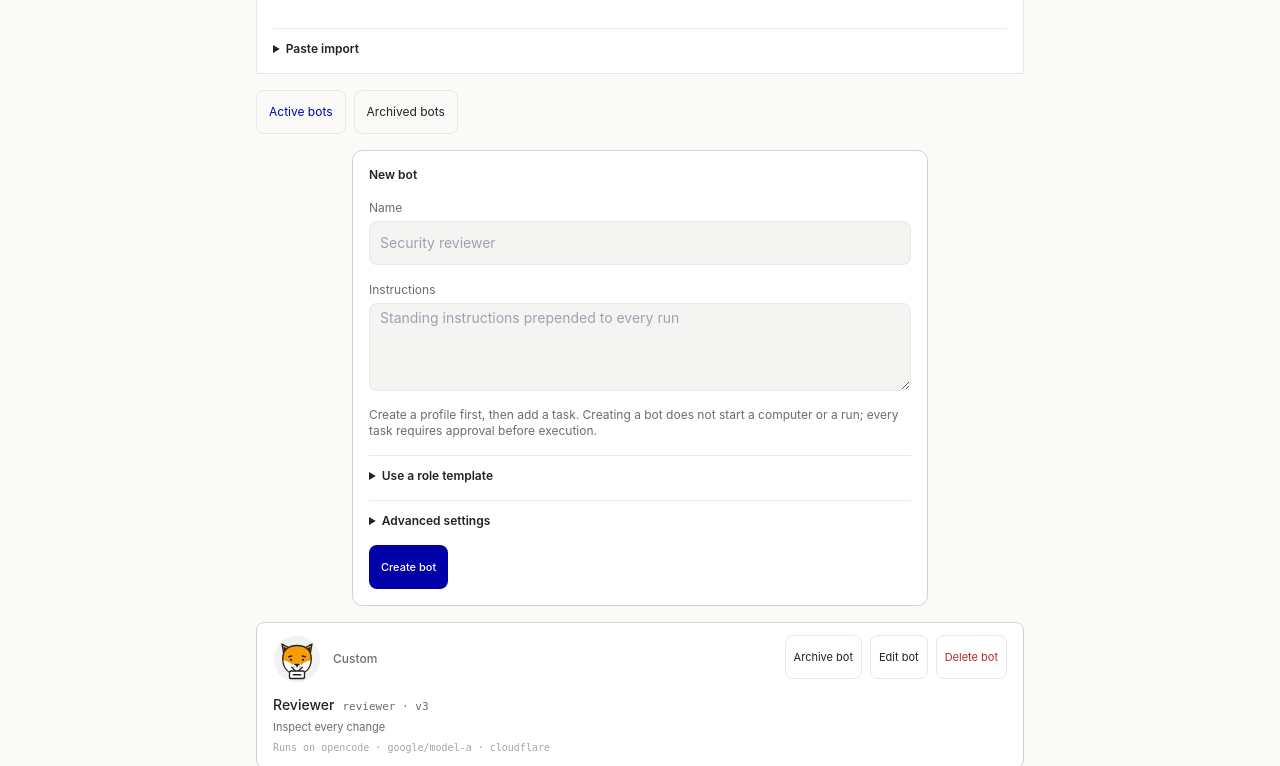
preserves saved settings while clearing an optional model during edit
(page scrolled)
Click the button "Edit bot" at (899, 657), box [870,635,928,679]
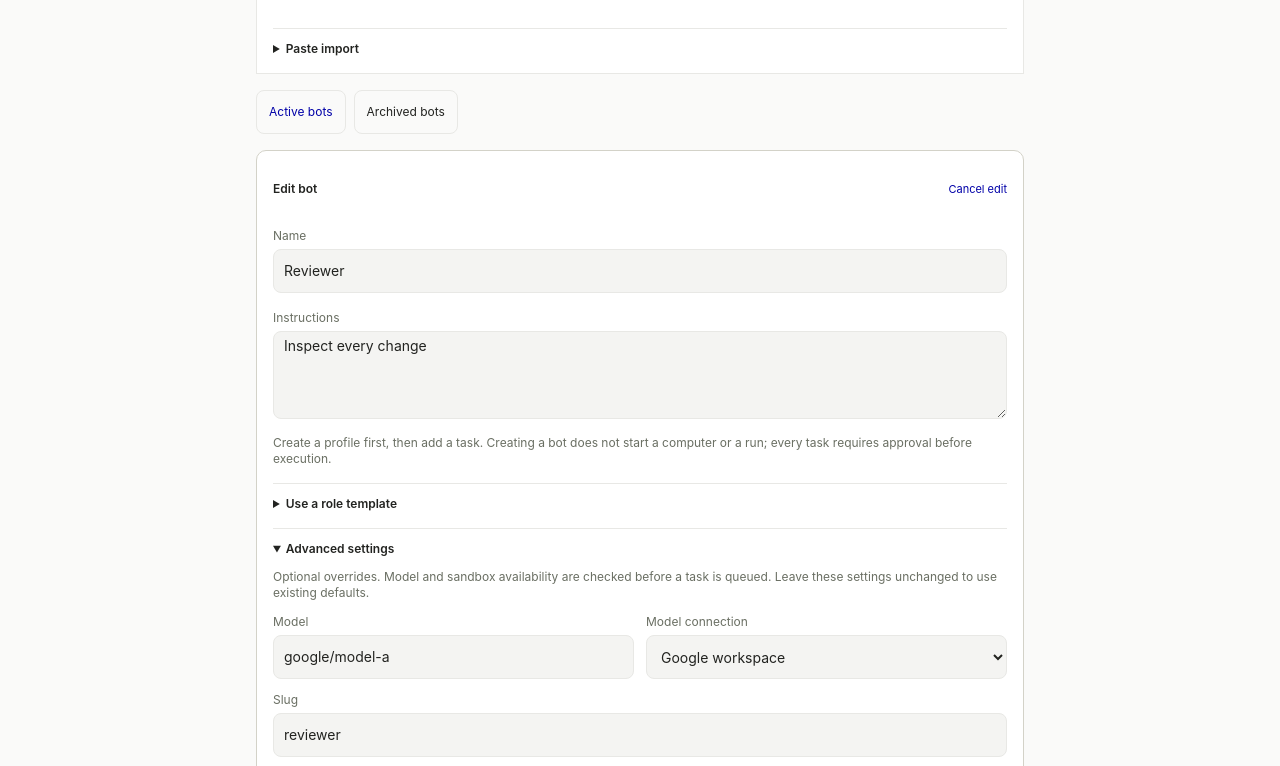
Clear the field labelled "Model" at (454, 657), box [273,635,634,679]
(page scrolled)
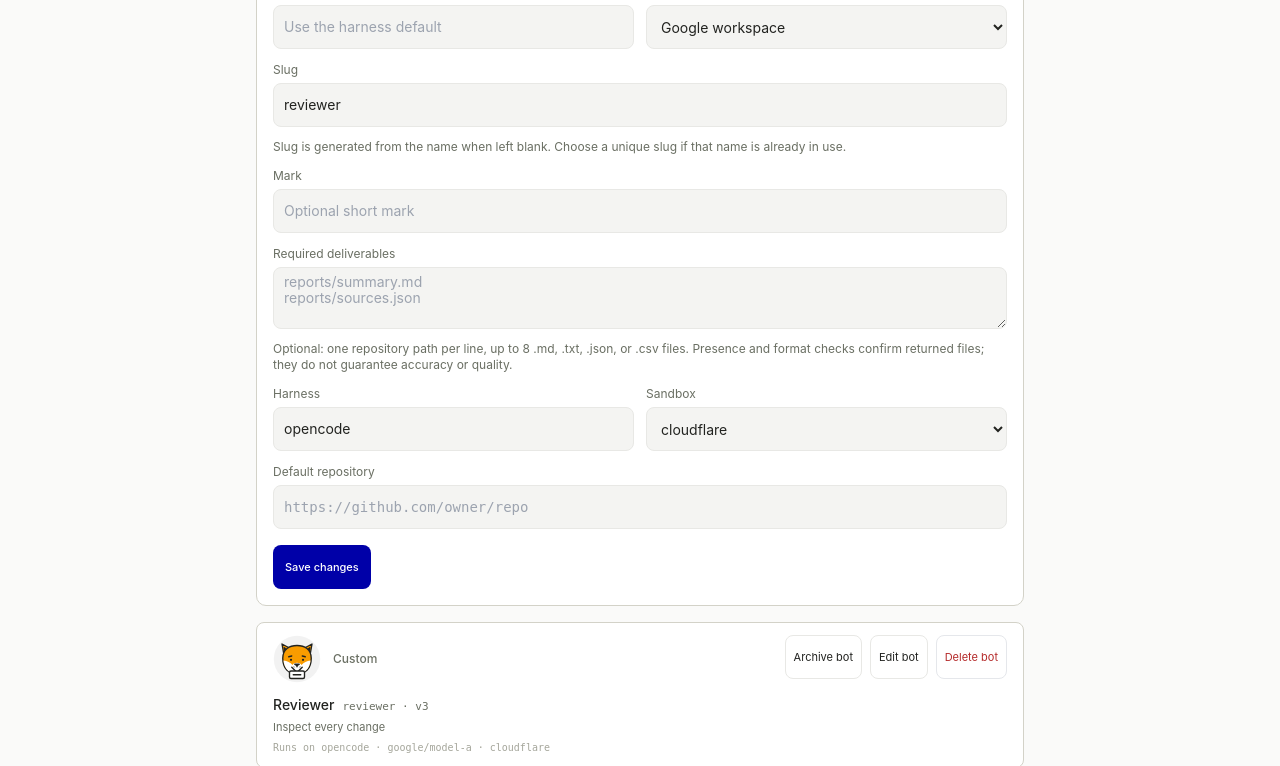
Click the button "Save changes" at (322, 567), box [273,545,371,589]
(page scrolled)
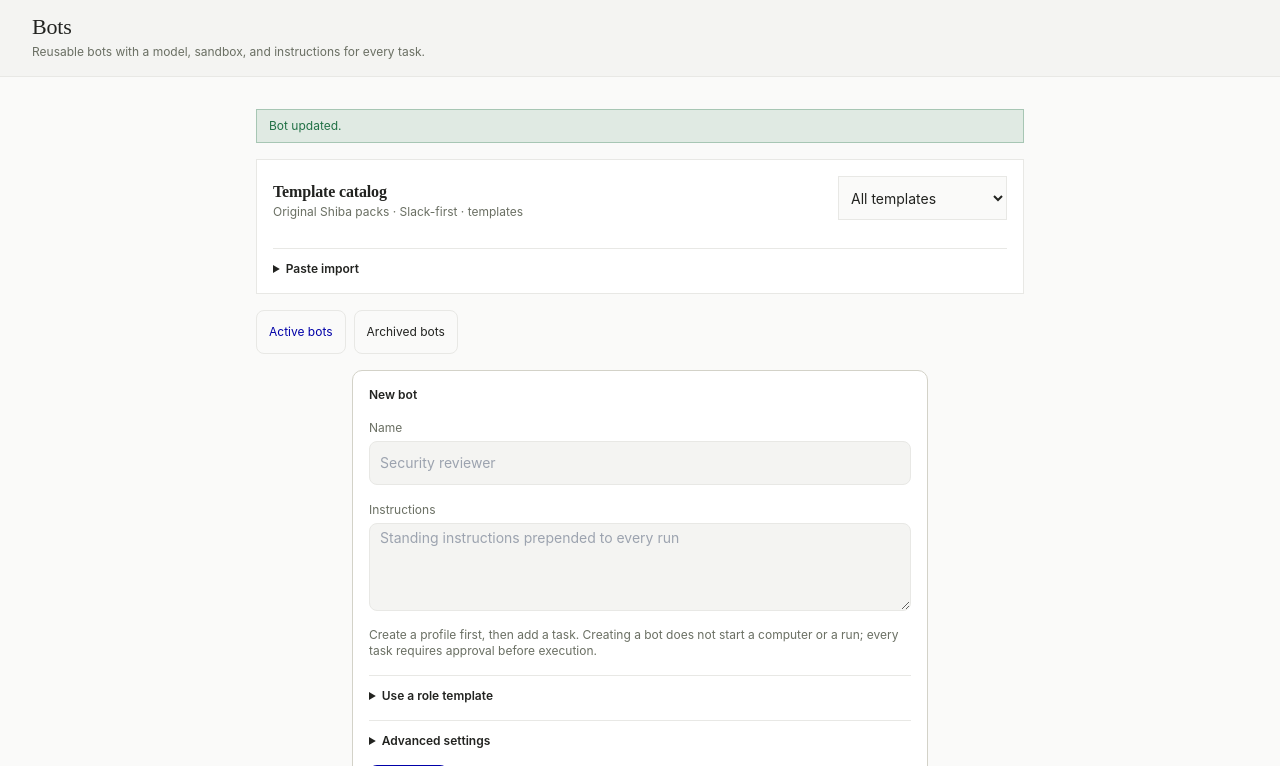
Check: the text "Bot updated." is shown, box [256,109,1024,143]
